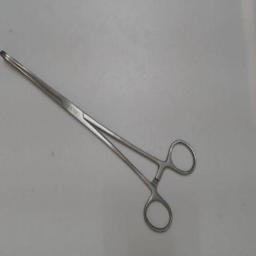Sponge Forceps: (1, 45, 201, 237)
